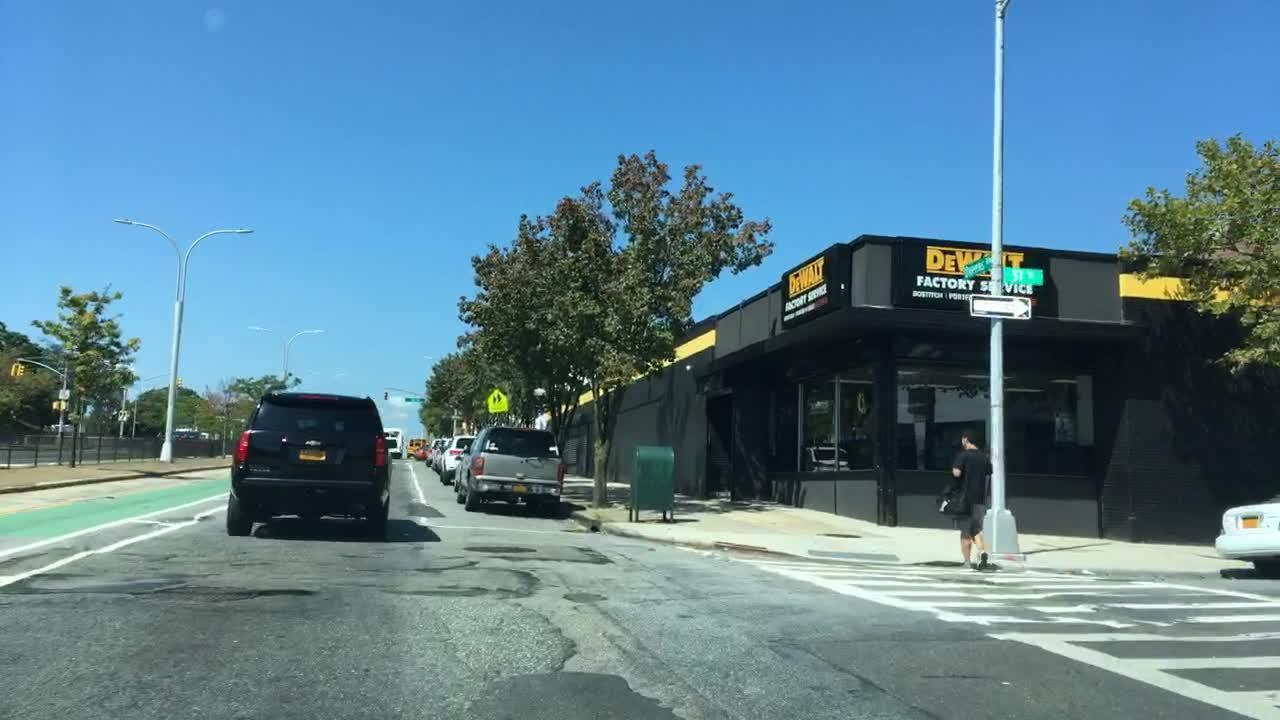chevrolet: (304, 435, 324, 450)
